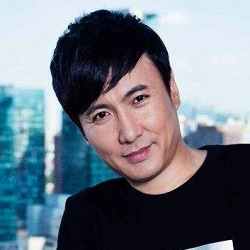unmask: (72, 69, 176, 181)
